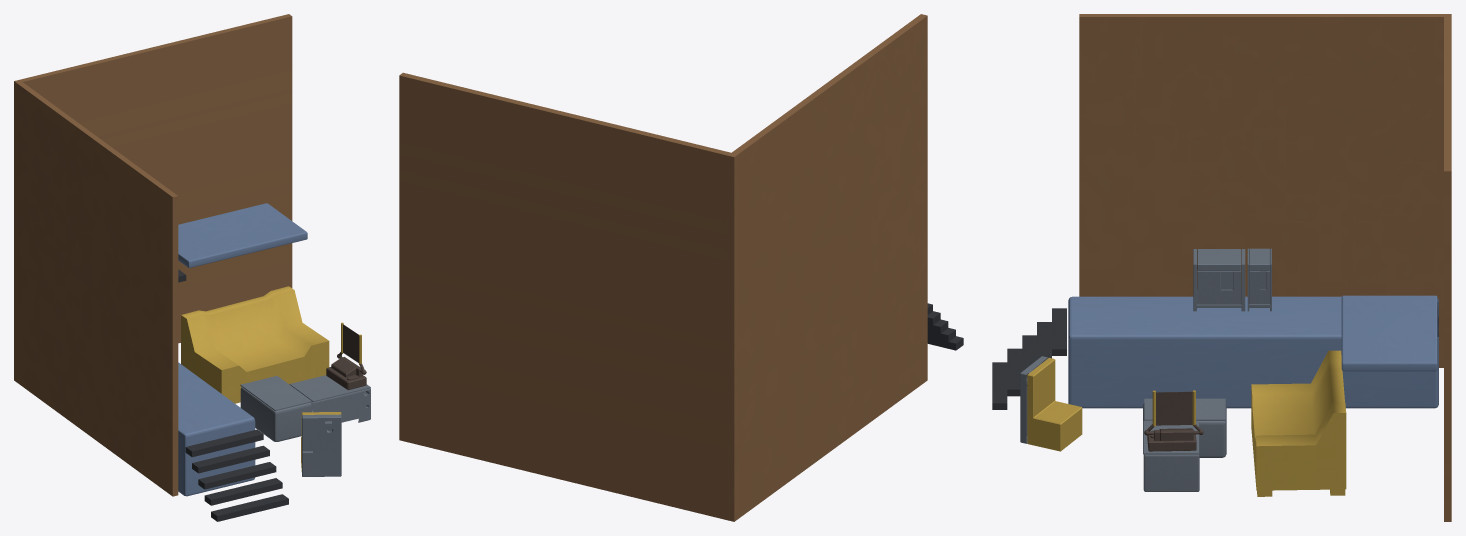
The model's file is Scene2_Sketchfab.fbx.
The picture shows the model from 3 angles, left to right: view 1: azimuth 30°, elevation 25°; view 2: azimuth 150°, elevation 25°; view 3: azimuth 270°, elevation 25°; orthographic projection. The views are drawn at different scales.
Parts seen in each view (by area): view 1: Wall, Asset2:pCube6, Walkway, Asset3:stoveTable, Platform, Asset4:Chair, Asset1:futureComputer, pCube6, pCube3, pCube4, pCube5, pCube2; view 2: Wall; view 3: Wall, Walkway, Asset2:pCube6, Platform, Asset3:stoveTable, Asset4:Chair, Asset5:Machine, Asset1:futureComputer, Asset6:Machine, pCube2, pCube3, pCube6 (+1 smaller).
Part boxes in pixels (<box>): Wall: <box>14,14,292,496</box>; Asset2:pCube6: <box>181,286,329,403</box>; Walkway: <box>178,362,255,496</box>; Asset3:stoveTable: <box>240,375,370,441</box>; Platform: <box>178,203,307,267</box>; Asset4:Chair: <box>301,412,341,476</box>; Asset1:futureComputer: <box>326,322,366,390</box>; pCube6: <box>185,429,263,457</box>; pCube3: <box>204,478,282,505</box>; pCube4: <box>198,462,276,489</box>; pCube5: <box>192,445,269,473</box>; pCube2: <box>211,494,288,521</box>; Wall: <box>399,14,927,521</box>; Wall: <box>1079,14,1451,521</box>; Walkway: <box>1068,296,1438,408</box>; Asset2:pCube6: <box>1251,350,1346,496</box>; Platform: <box>1341,295,1437,371</box>; Asset3:stoveTable: <box>1143,398,1226,491</box>; Asset4:Chair: <box>1020,356,1082,451</box>; Asset5:Machine: <box>1193,249,1245,311</box>; Asset1:futureComputer: <box>1144,390,1203,451</box>; Asset6:Machine: <box>1247,248,1271,311</box>; pCube2: <box>992,362,1007,409</box>; pCube3: <box>1007,348,1022,396</box>; pCube6: <box>1052,308,1066,355</box>.
Bounding box in the file's own units: 25 × 26 × 30.84.
Materials: 1 (1 with a texture image).
